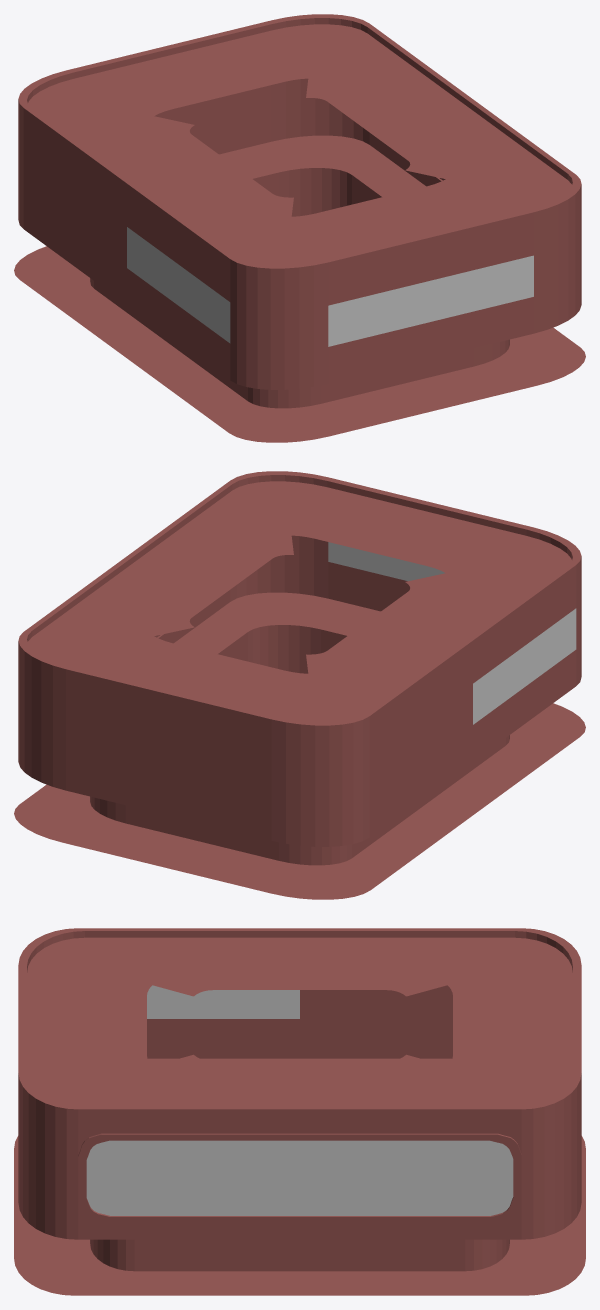
The model's file is Cub.002.fbx.
3 renders of one model, top to bottom at view 1: azimuth 30°, elevation 25°; view 2: azimuth 150°, elevation 25°; view 3: azimuth 270°, elevation 25°, orthographic. The views are drawn at different scales.
Visible parts, largest first — view 1: Cub.002; view 2: Cub.002; view 3: Cub.002.
Part boxes in pixels (box(x1,y1,x2,y2)): Cub.002: box(14, 14, 585, 442); Cub.002: box(14, 471, 585, 899); Cub.002: box(14, 928, 585, 1295).
Size of the model in its own units: 661 by 310 by 868.
